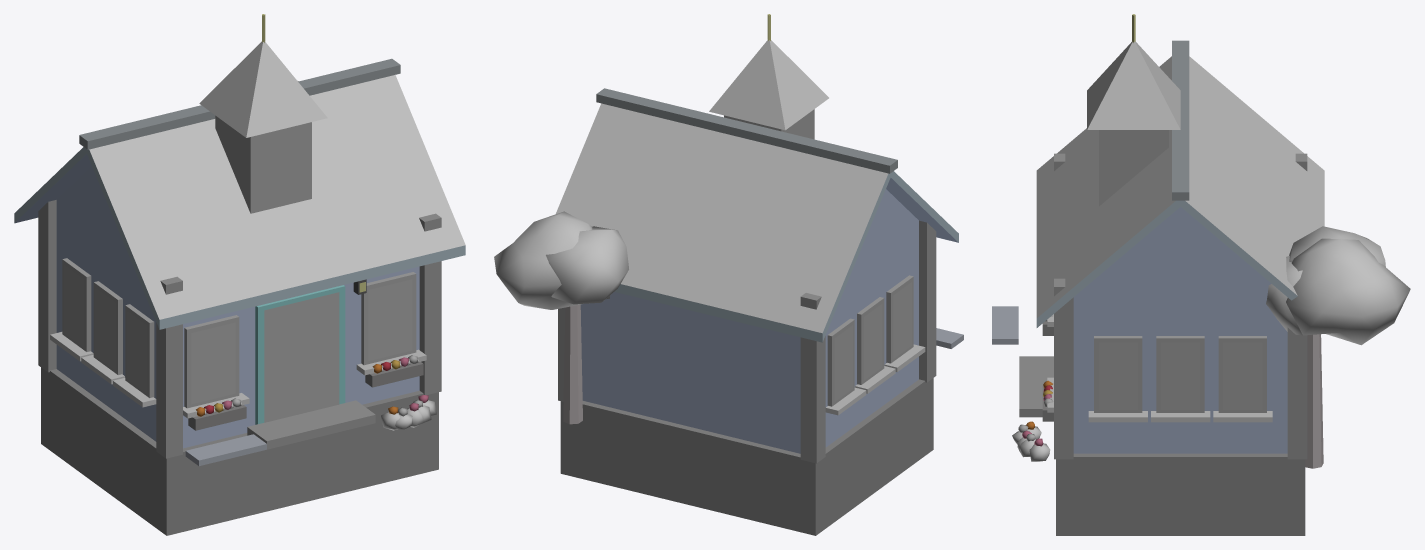
Rendered from school.glb.
3 renders of one model, left to right at view 1: azimuth 30°, elevation 25°; view 2: azimuth 150°, elevation 25°; view 3: azimuth 270°, elevation 25°, orthographic. The views are drawn at different scales.
Parts seen in each view (by area): view 1: school; view 2: school; view 3: school.
Boxes of the visible parts, x1,y1,x2,y2 form: school: (14, 14, 465, 535); school: (494, 14, 963, 535); school: (992, 14, 1410, 535).
Size of the model in its own units: 4.92 by 6.45 by 5.38.
